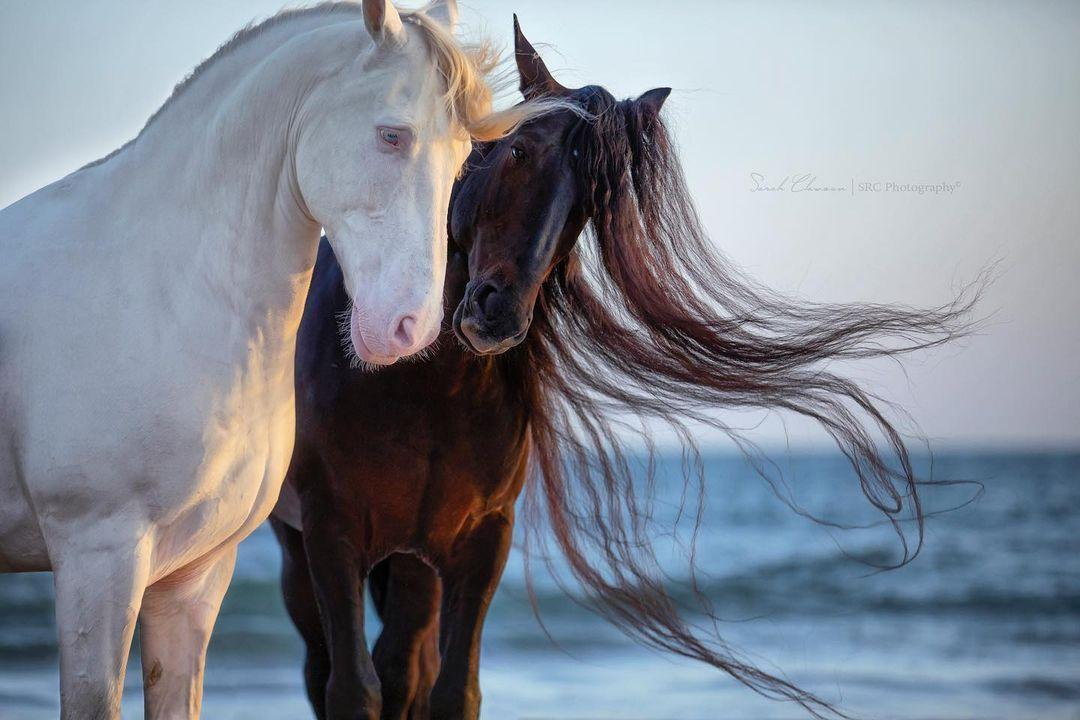horse: (267, 10, 1006, 718), (0, 0, 555, 718)
